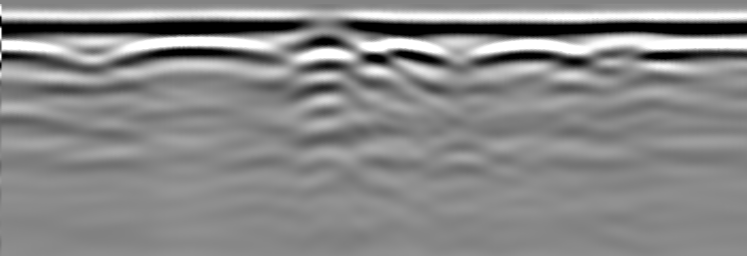pipe: (285, 16, 362, 48)
steel: (115, 37, 287, 66), (2, 39, 98, 71), (472, 39, 594, 64), (364, 37, 451, 65)
